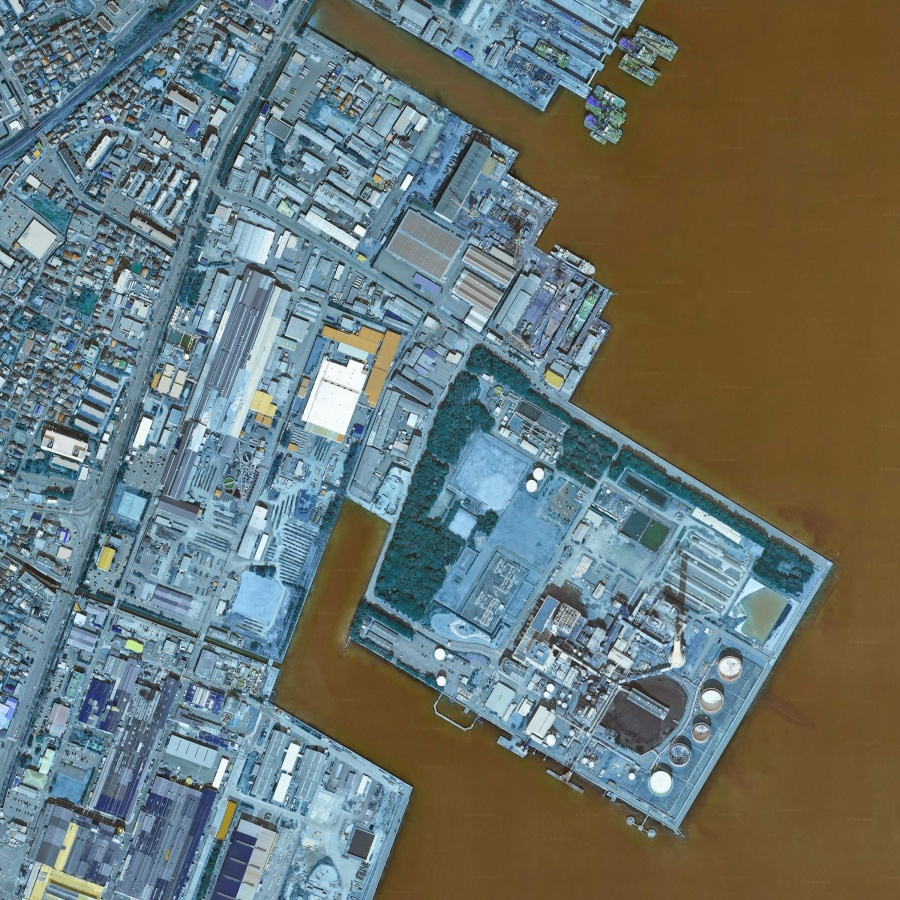PowerPlant: (428, 508, 797, 828)
